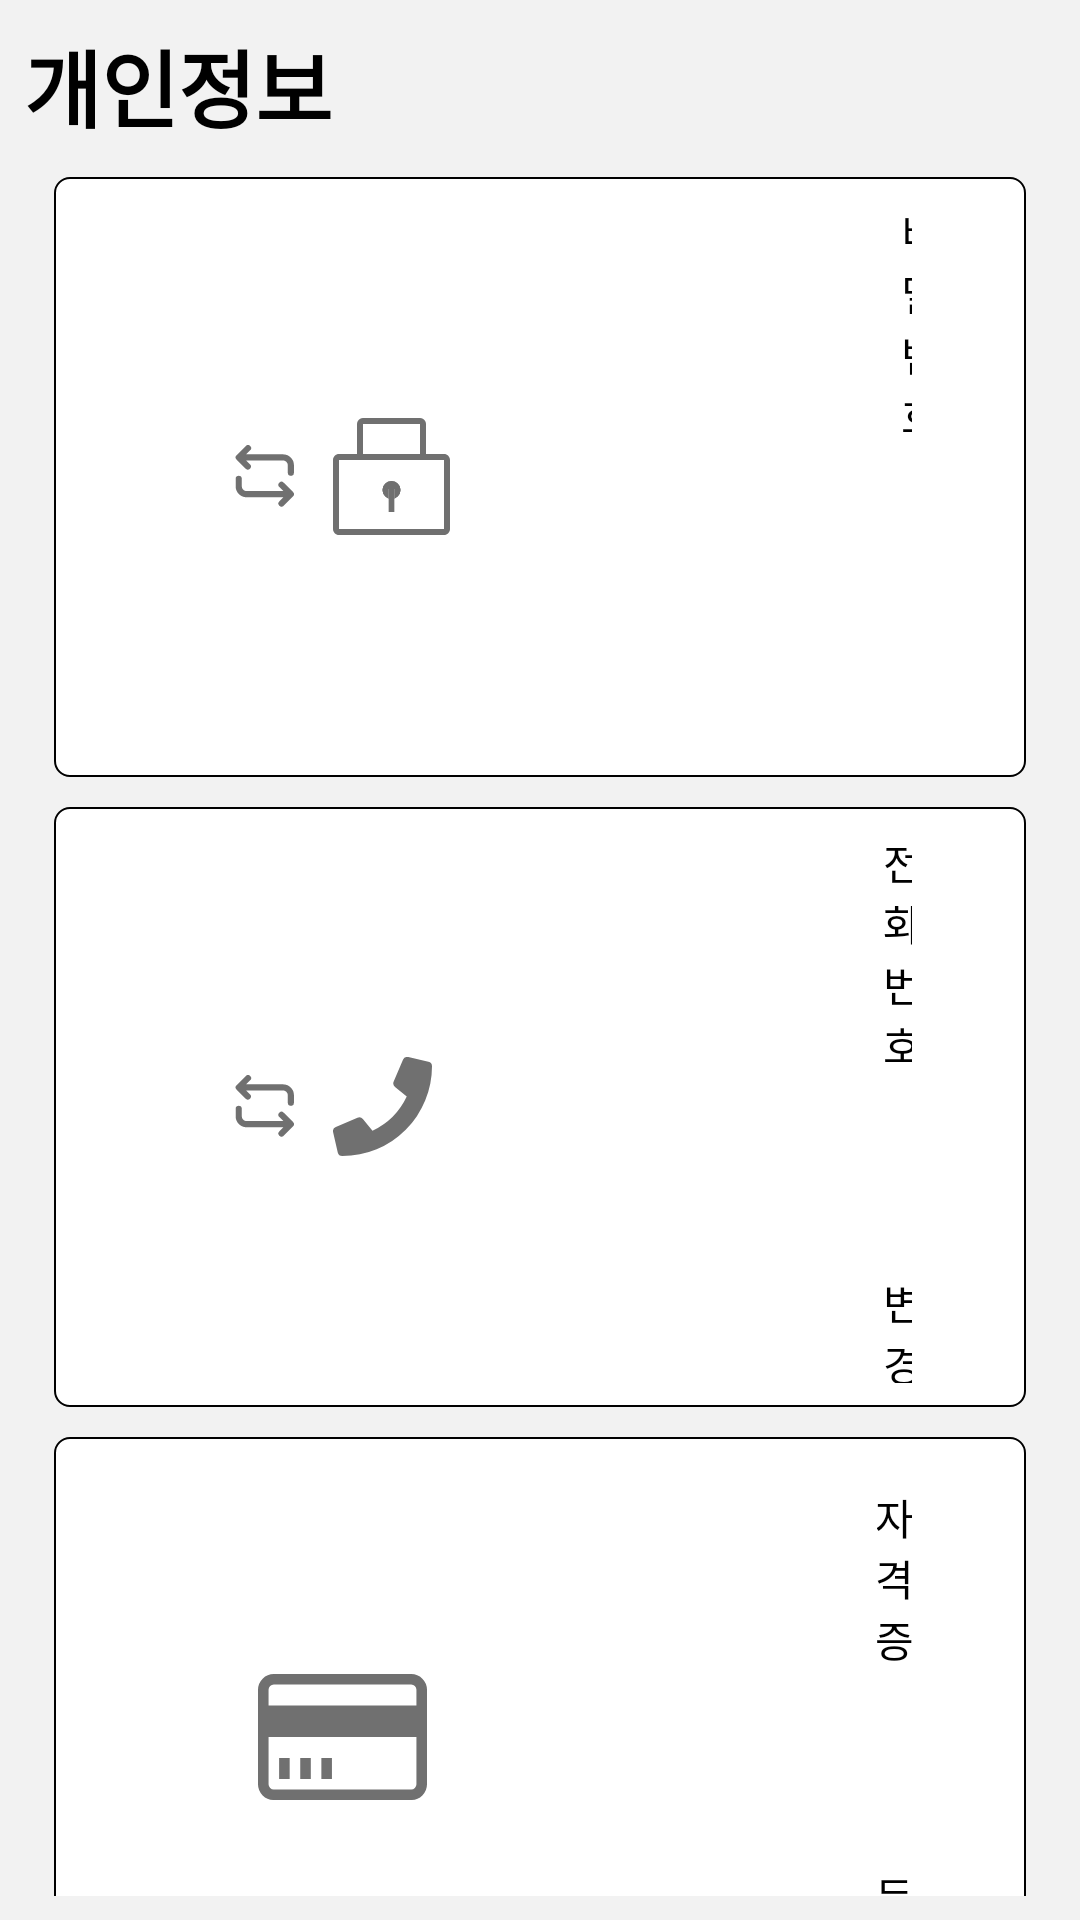

Screen size 1080w x 1920h. Icon name, then its center in pixels as point (x, y):
credit card: point (342, 1737)
flip: point (264, 476), point (264, 1106)
phone: point (382, 1106)
